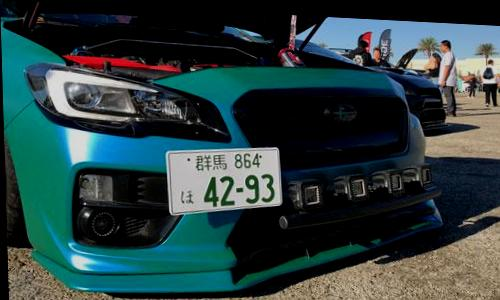License_Plate: (158, 141, 295, 227)
